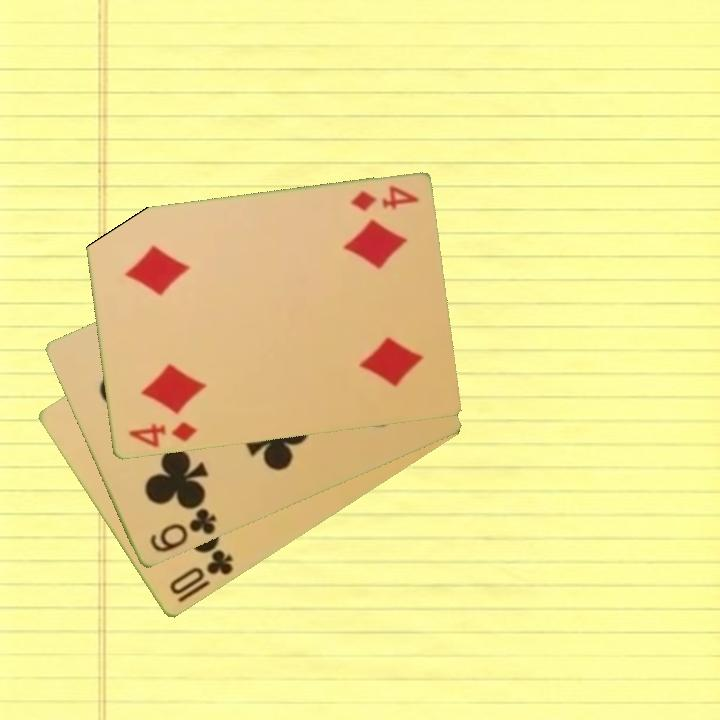10c: (166, 546, 236, 599)
4d: (347, 182, 421, 215), (125, 419, 200, 451)
6c: (146, 505, 219, 556)
